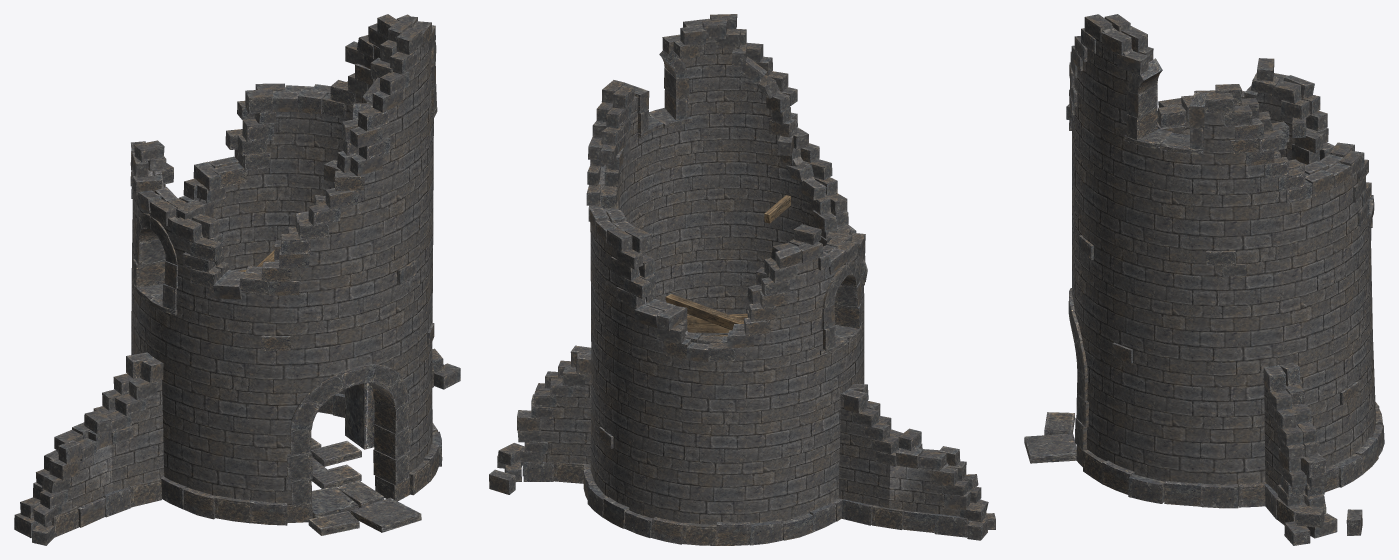
The model's file is Tower_01.fbx.
3 renders of one model, left to right at view 1: azimuth 30°, elevation 25°; view 2: azimuth 150°, elevation 25°; view 3: azimuth 270°, elevation 25°, orthographic. The views are drawn at different scales.
Visible parts, largest first — view 1: StoneWall, StoneBricks; view 2: StoneWall, StoneBricks, Wood; view 3: StoneWall, StoneBricks.
Boxes of the visible parts, left/top/right/bottom form: StoneWall: left=43, top=41, right=433, bottom=527; StoneBricks: left=14, top=14, right=460, bottom=545; StoneWall: left=539, top=19, right=970, bottom=524; StoneBricks: left=489, top=14, right=995, bottom=545; Wood: left=665, top=195, right=790, bottom=336; StoneWall: left=1072, top=26, right=1375, bottom=502; StoneBricks: left=1024, top=14, right=1384, bottom=545.
Size of what is drawn, in the model's own units: 704 by 628 by 451.
